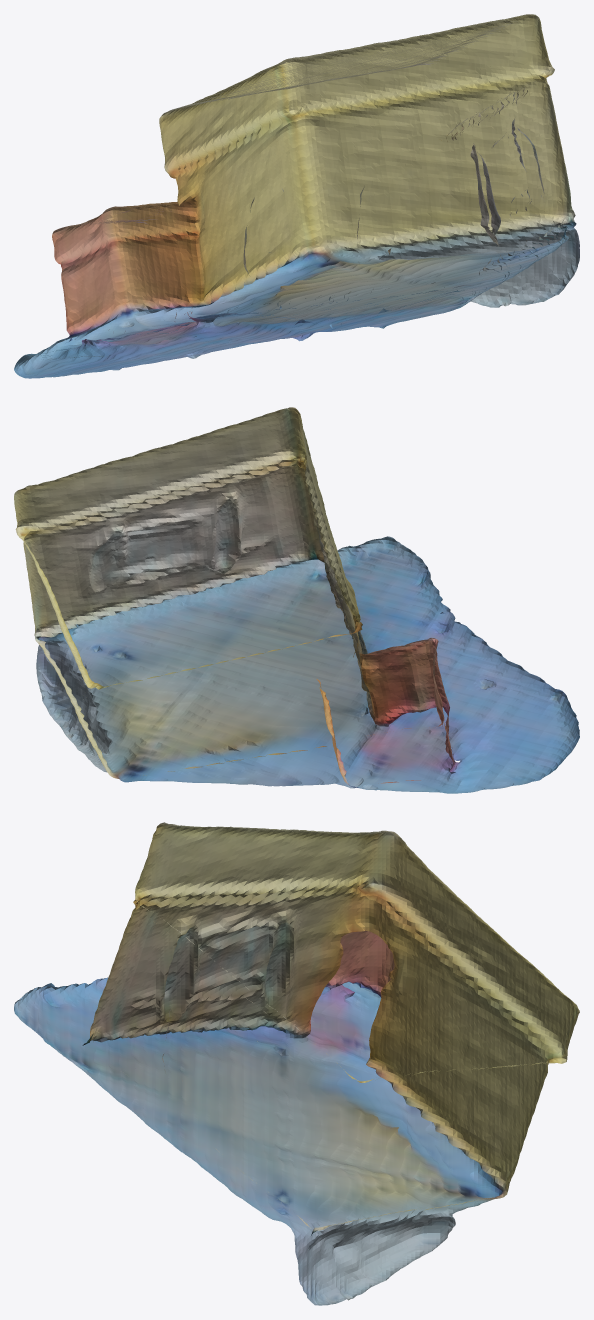
3 views of the same model, one above another, from view 1: azimuth 30°, elevation 25°; view 2: azimuth 150°, elevation 25°; view 3: azimuth 270°, elevation 25° (orthographic). The views are drawn at different scales.
Visible parts, largest first — view 1: geometry_0; view 2: geometry_0; view 3: geometry_0.
Part boxes in pixels (x1,y1,x2,y2): geometry_0: [14, 14, 579, 378]; geometry_0: [14, 407, 579, 793]; geometry_0: [14, 822, 579, 1305].
Size of the model in its own units: 1.6 by 0.9145 by 1.22.
